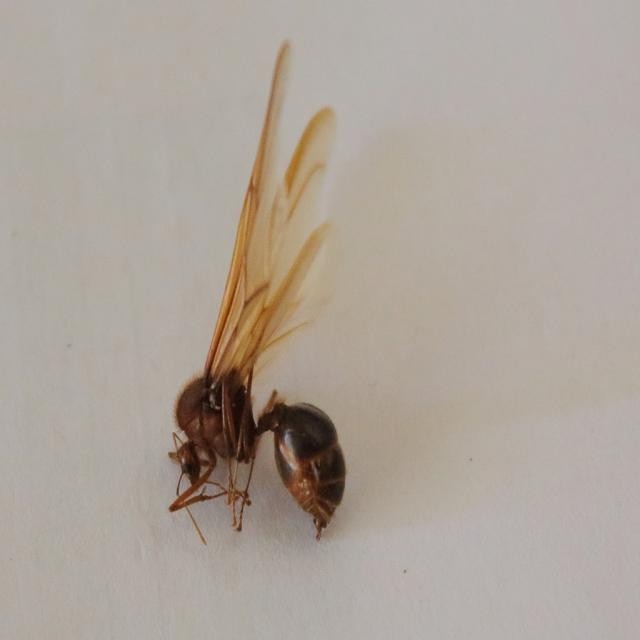Dead-Male-Alate: (168, 41, 347, 546)
